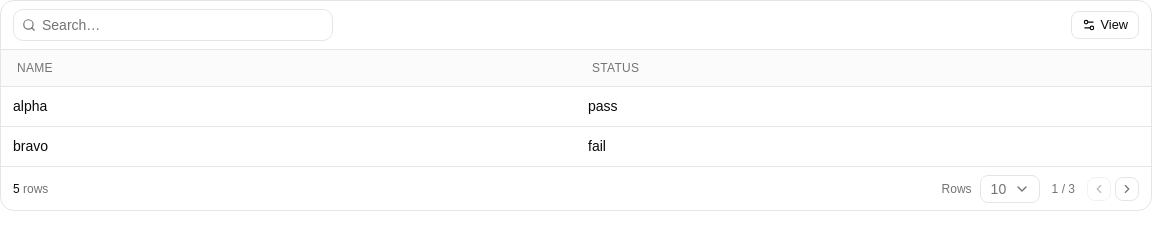
Test: DataGrid › paginates
This screenshot has width=1152, height=228.
Expected: the number of rows with test id "data-grid-row" is 2, [1, 86, 1151, 126]; [1, 126, 1151, 166]
Expected: the text with test id "data-grid-page" reads "1 / 3", [1052, 180, 1075, 196]
Click the button with test id "data-grid-next" at point(1127, 188), box [1115, 176, 1139, 200]
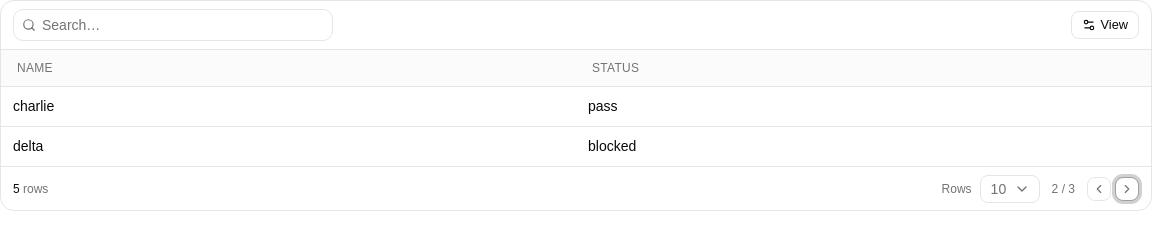
Result: the text with test id "data-grid-page" reads "2 / 3" at [1052, 180, 1075, 196]
